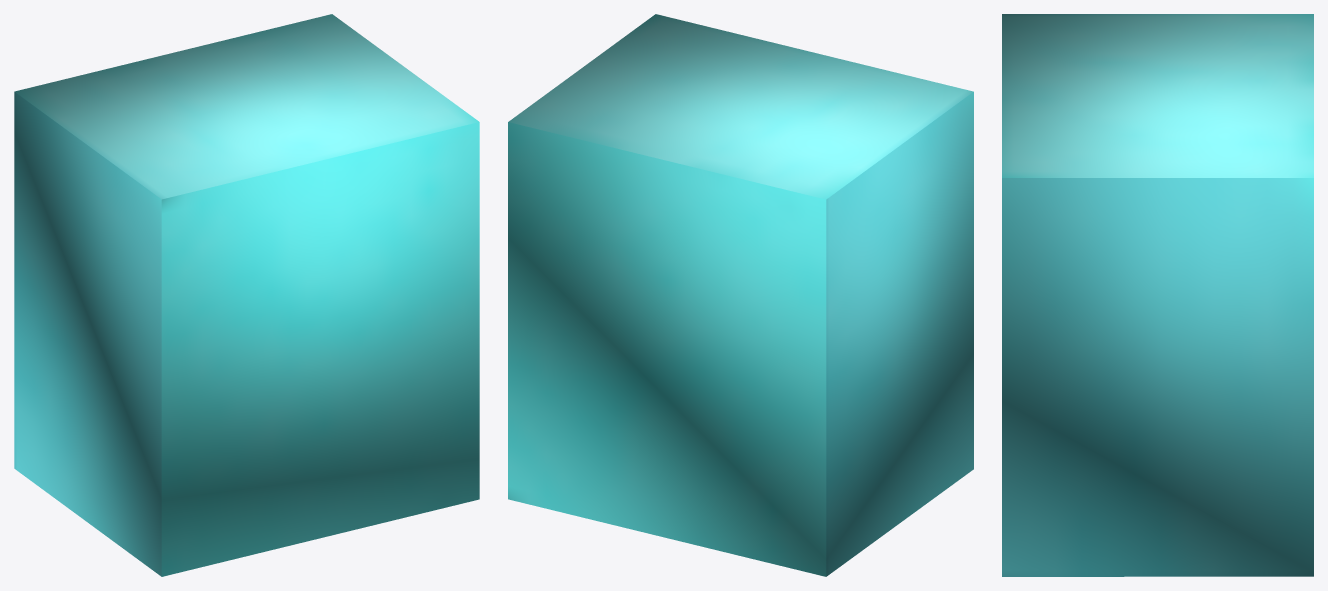
File: pvp_ zhuankuai_03.FBX
3 views of the same model, side by side, from view 1: azimuth 30°, elevation 25°; view 2: azimuth 150°, elevation 25°; view 3: azimuth 270°, elevation 25° (orthographic). The views are drawn at different scales.
Parts seen in each view (by area): view 1: pvp_ zhuankuai_03; view 2: pvp_ zhuankuai_03; view 3: pvp_ zhuankuai_03.
Part boxes in pixels (x1=…): pvp_ zhuankuai_03: x1=14, y1=14, x2=479, y2=576; pvp_ zhuankuai_03: x1=508, y1=14, x2=973, y2=576; pvp_ zhuankuai_03: x1=1002, y1=14, x2=1313, y2=576.
Bounding box in the file's own units: 0.2317 × 0.2629 × 0.1862.
